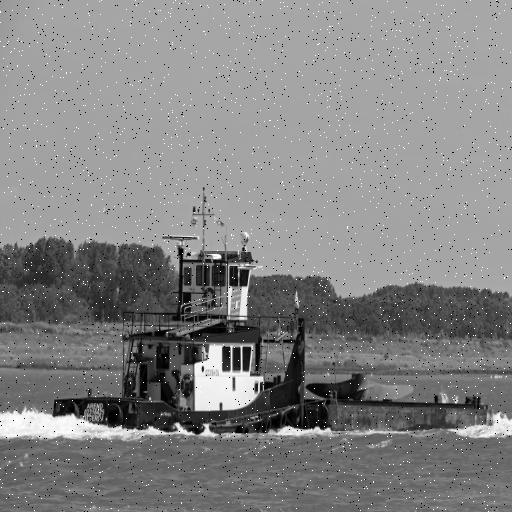tugboat: (52, 187, 314, 449)
